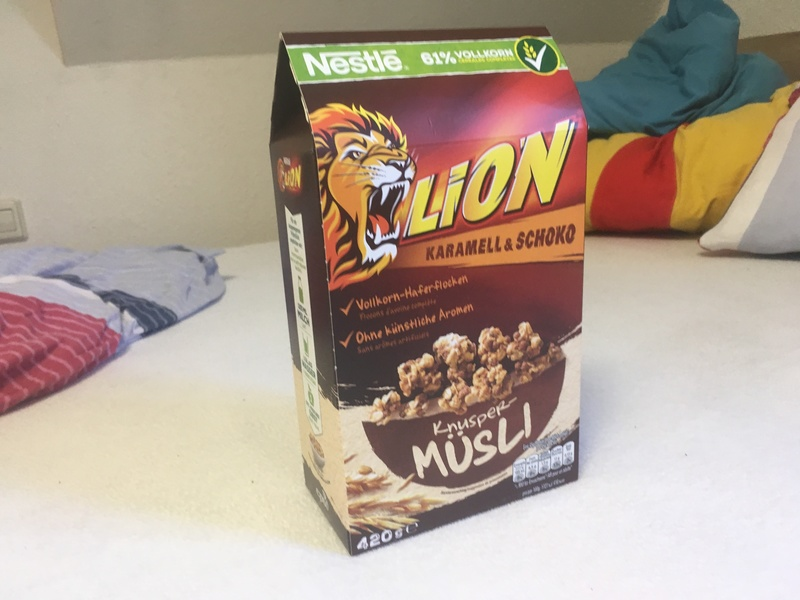cereals: (269, 26, 589, 559)
